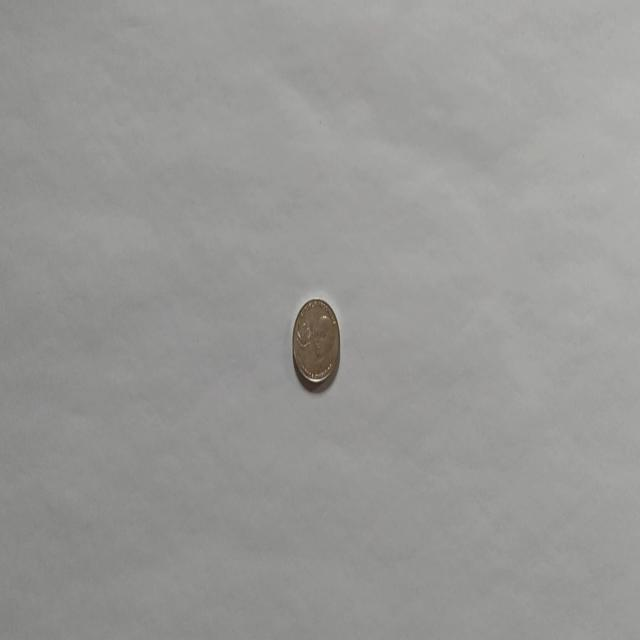lima ratus rupiah: (291, 296, 341, 388)
